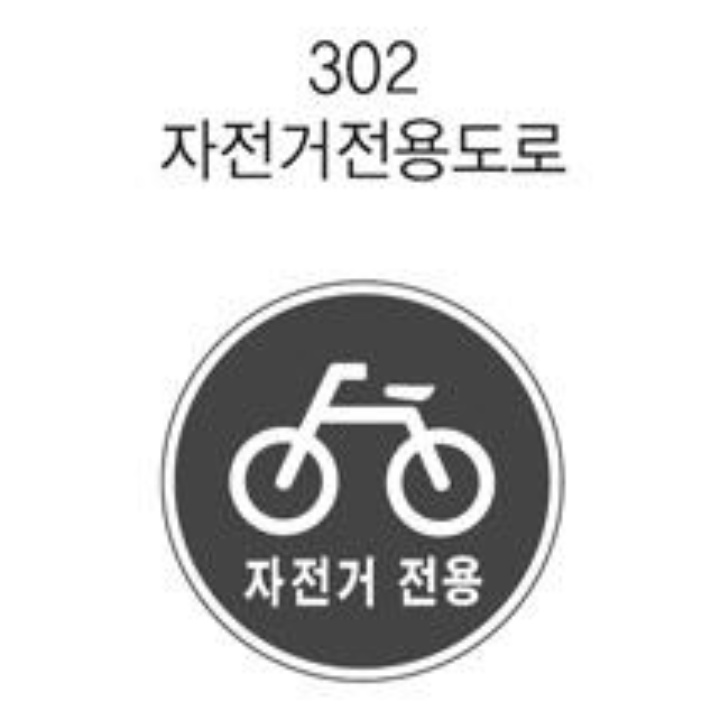bicycle: (195, 314, 549, 556)
